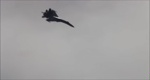maybay_muctieu: (42, 9, 75, 29)
